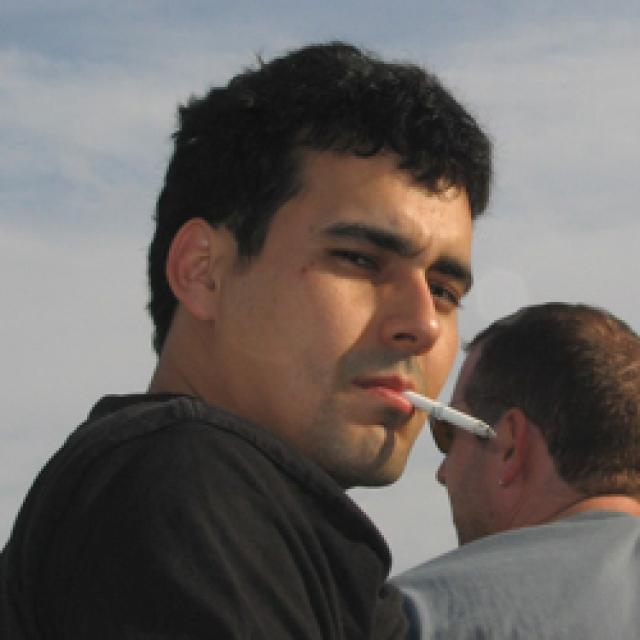Smooking: (397, 382, 504, 452)
